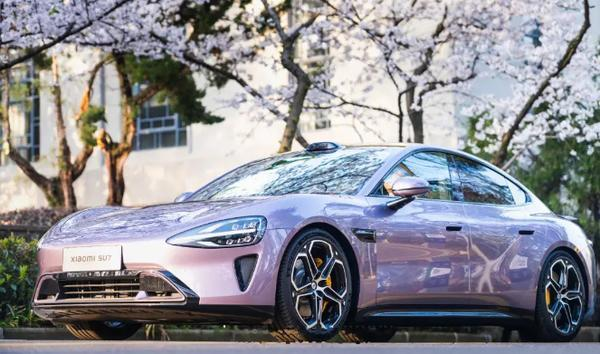su7: (29, 146, 599, 343)
